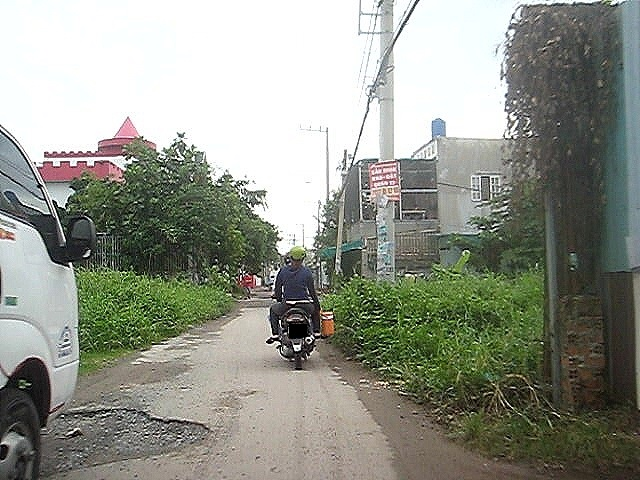hole: (42, 402, 214, 473)
